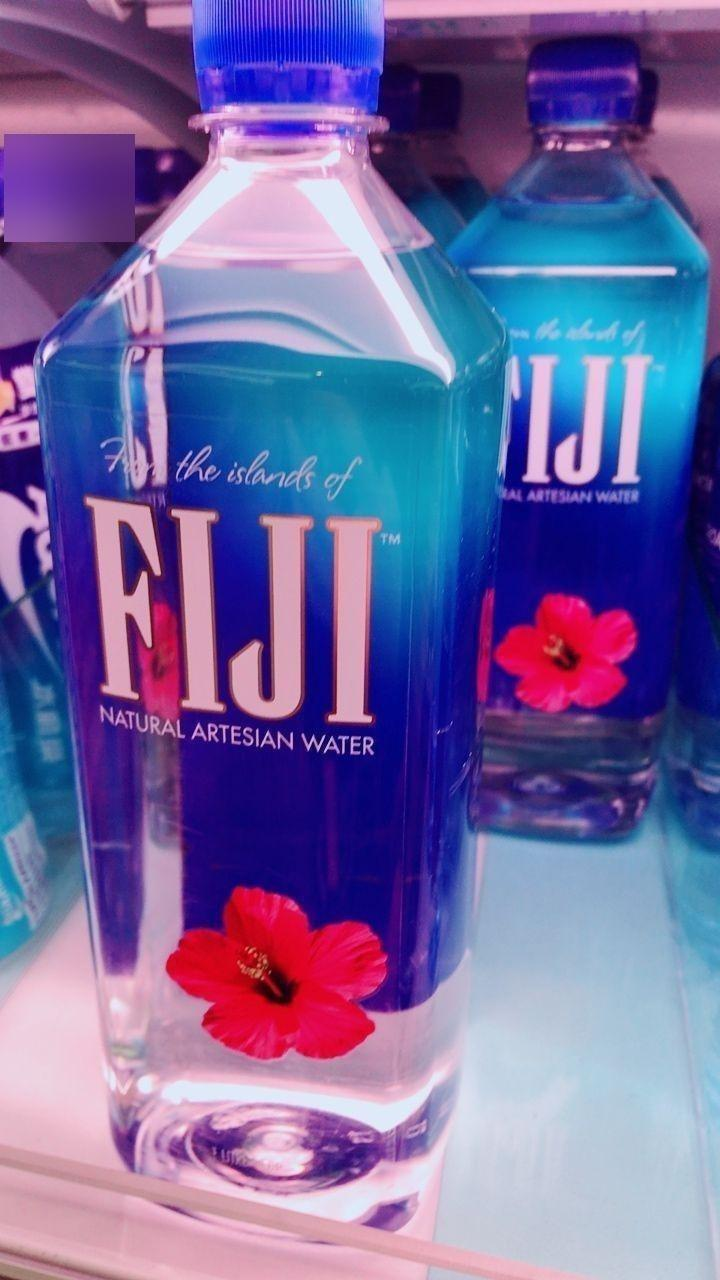bottle-plastic: (43, 1, 505, 1238), (446, 55, 711, 841)
